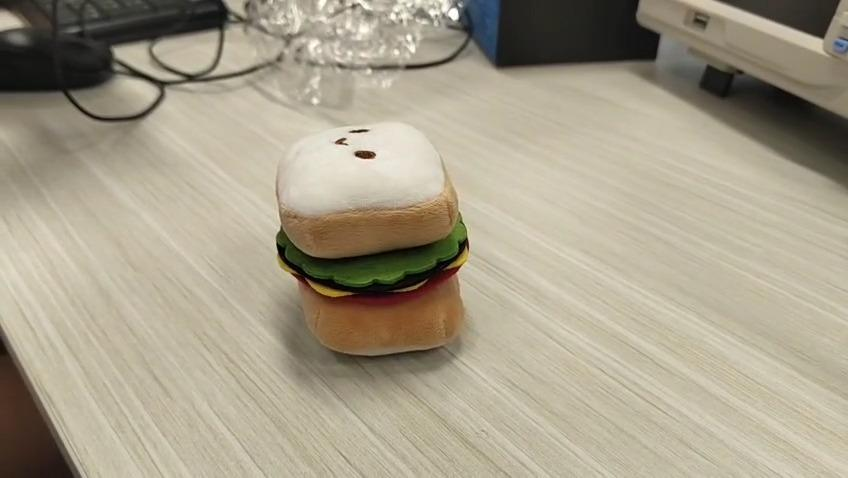objects: (275, 121, 473, 356)
